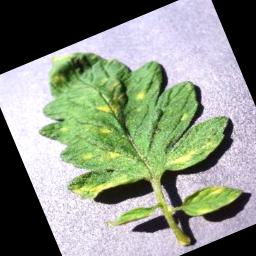Leaf_Mold: (68, 162, 133, 204), (88, 77, 133, 124), (163, 142, 204, 170), (102, 144, 123, 163), (205, 180, 226, 197), (97, 121, 115, 138), (194, 204, 214, 217), (81, 149, 95, 163)
